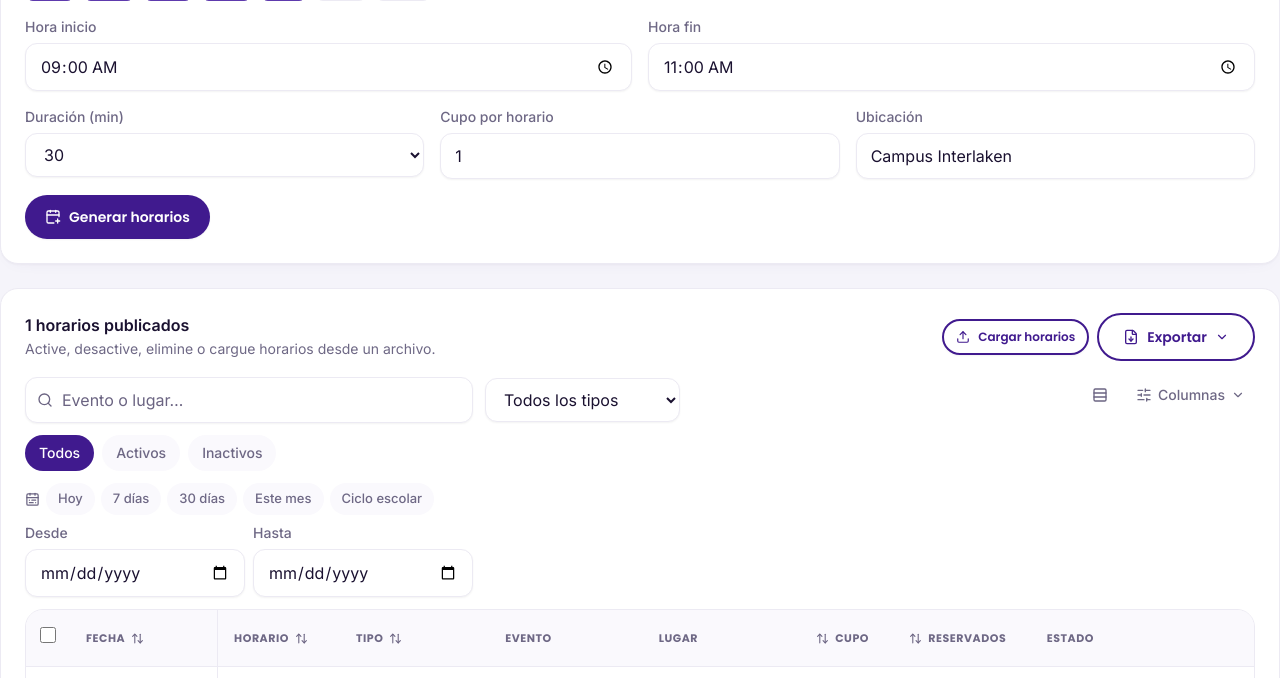
Scenario: AdminBookings: horarios › opens the import dialog with the slot template headers
(page scrolled)
Click the button "Cargar horarios": (1016, 337) top-left (942, 319), bottom-right (1089, 355)
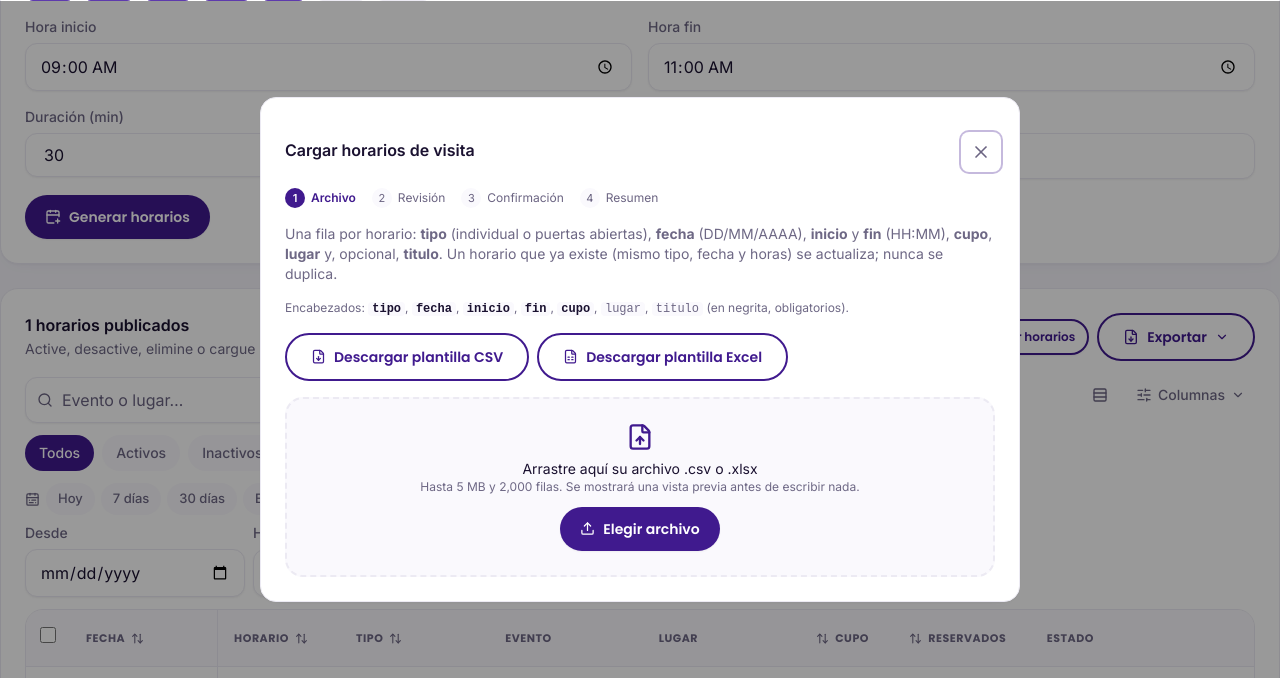
Result: the dialog "Cargar horarios de visita" shows "cupo" at top-left (954, 224), bottom-right (988, 242)
Result: the dialog "Cargar horarios de visita" shows "DD/MM/AAAA" at top-left (694, 224), bottom-right (807, 242)
